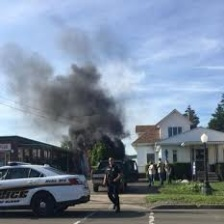smoke: (15, 45, 127, 136)
